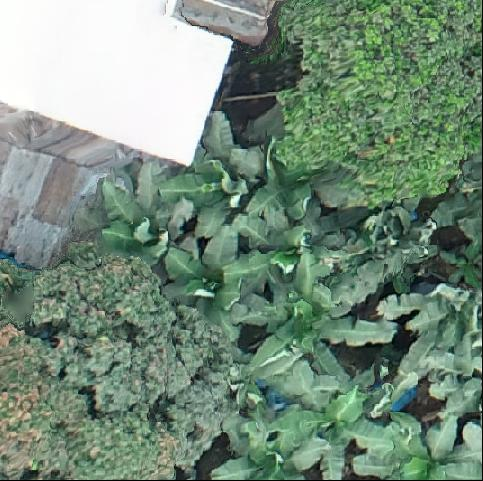Banana-plant: (248, 258, 391, 391), (158, 226, 267, 345), (164, 118, 259, 232), (282, 377, 380, 481), (360, 411, 483, 481), (210, 410, 323, 481), (94, 176, 173, 268)
